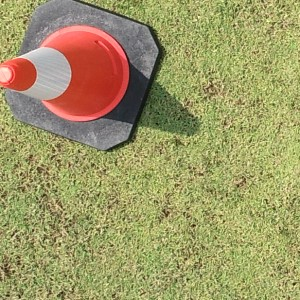traffic cone: (1, 1, 159, 150)
